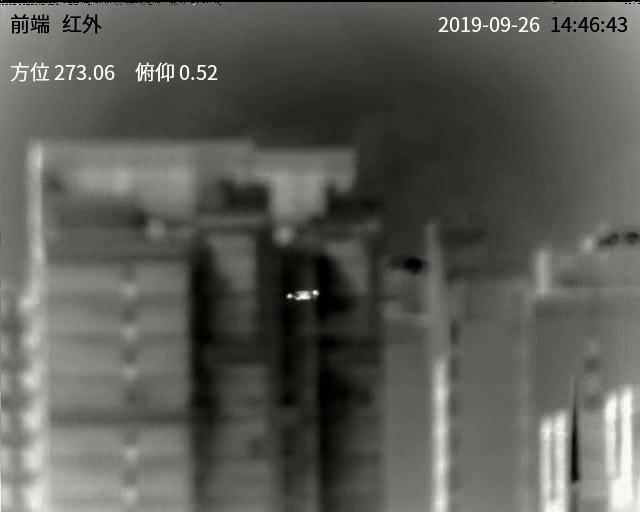DRONE: (286, 288, 320, 302)
